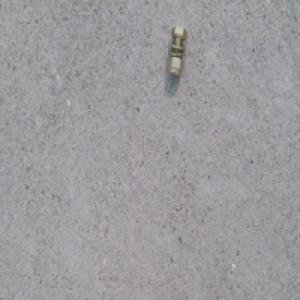BoltNutSet: (164, 26, 188, 76)
